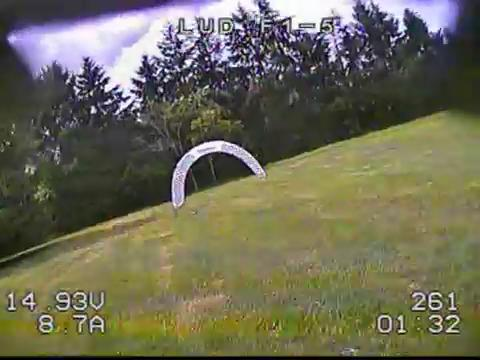gate: (171, 140, 268, 209)
